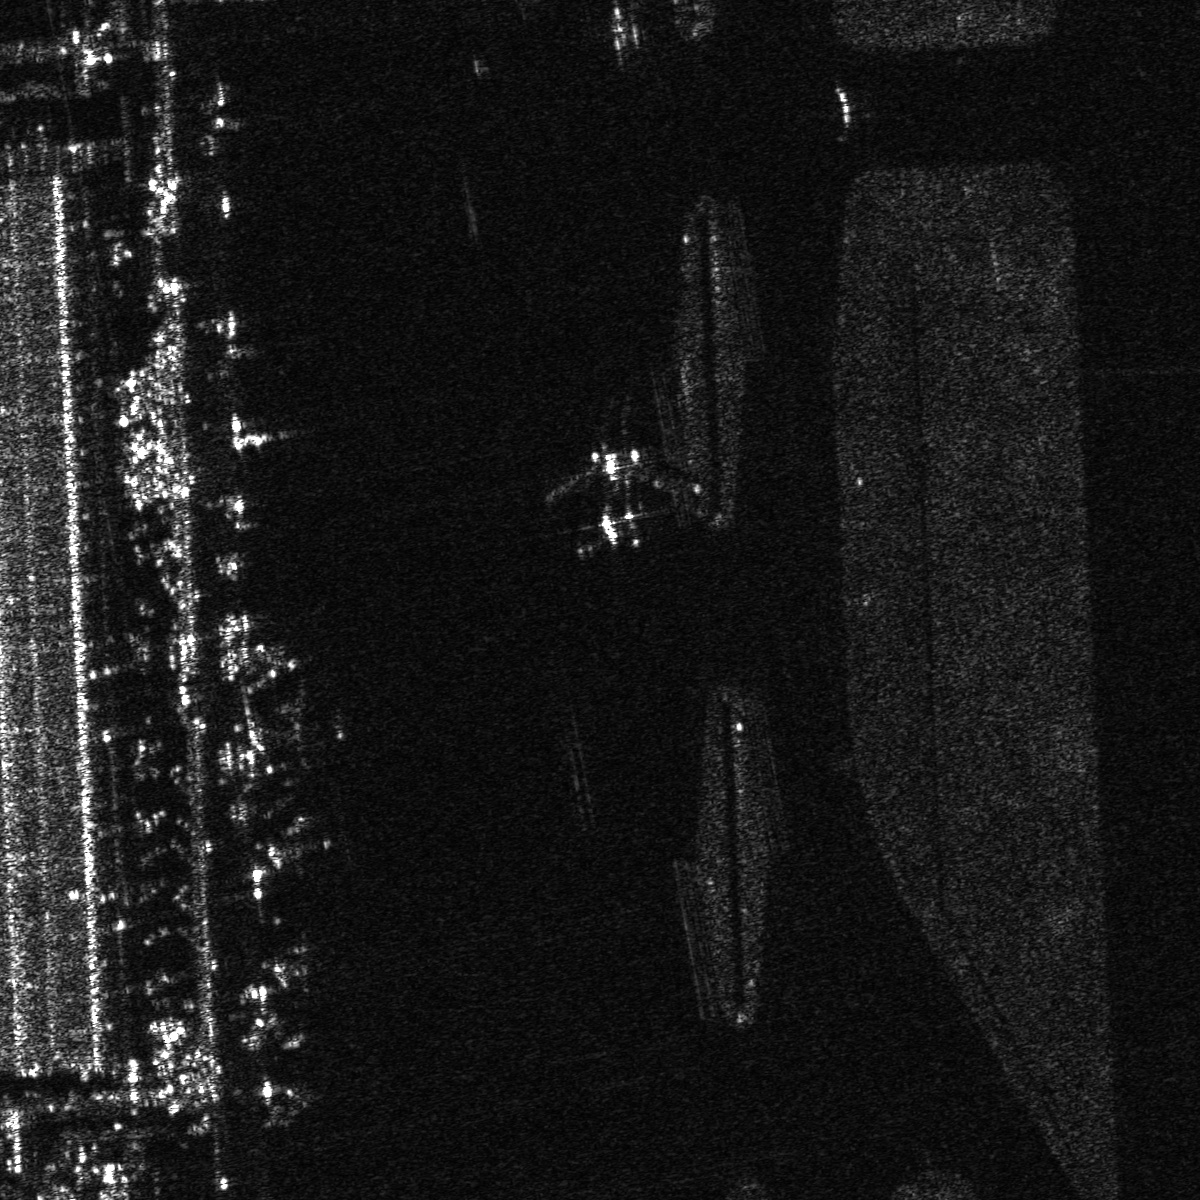A220: (245, 686, 352, 773)
other: (537, 424, 673, 558), (247, 805, 338, 873), (257, 927, 338, 993)
